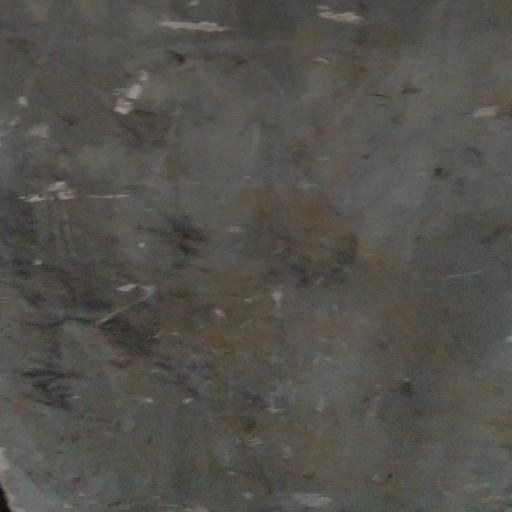stain: (16, 6, 503, 512)
